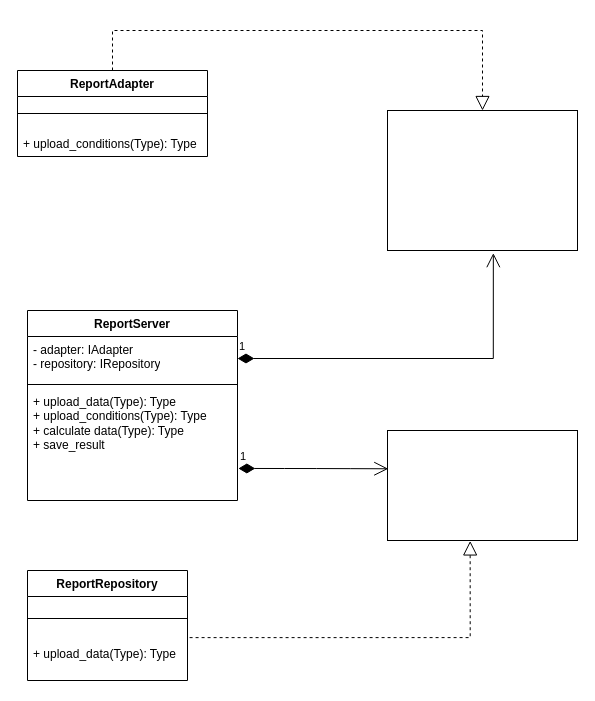
The diagram is 595 pixels wide and 701 high, and some of its shapes have lost their labels. Each missing label, with the centre of its shape:
"<<Interface>> IAdapter + upload_conditions(Type): Type" goes at pixel 482 180.
"<<Interface>> IRepository + upload_data(Type): Type" goes at pixel 482 485.
